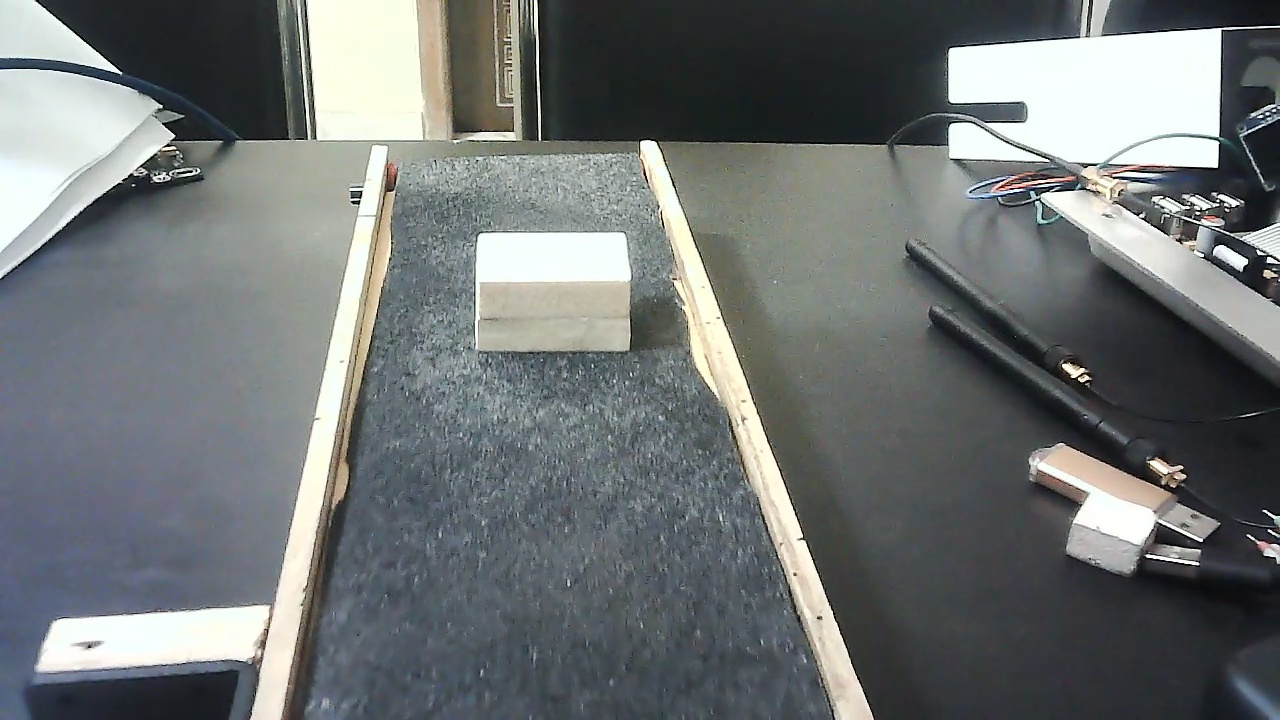BIG: (475, 217, 632, 374)
